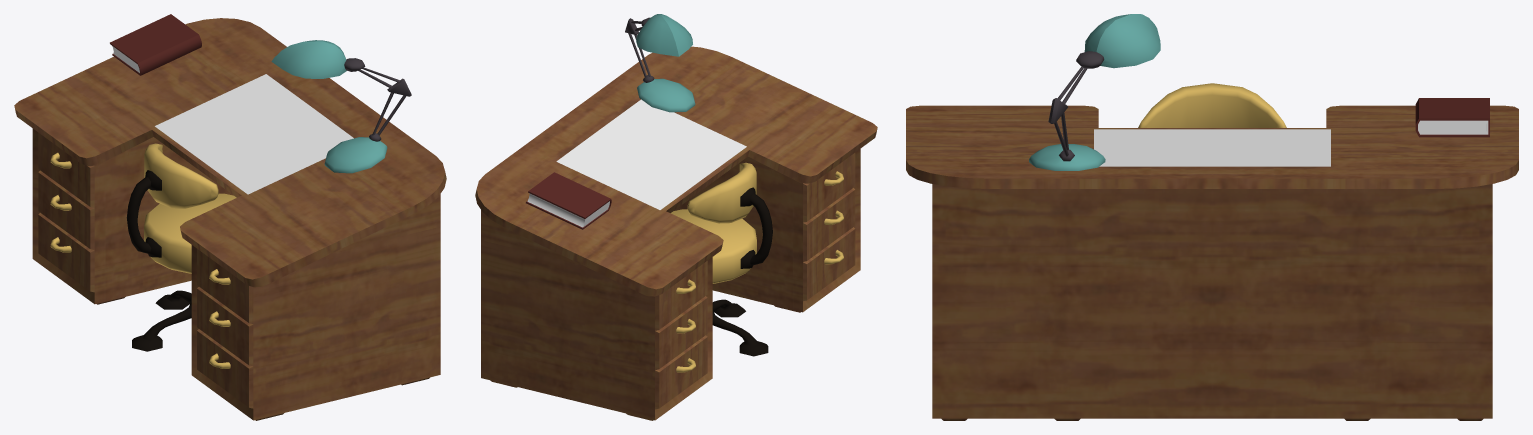
File: CI_112_desk.glb
3 renders of one model, left to right at view 1: azimuth 30°, elevation 25°; view 2: azimuth 150°, elevation 25°; view 3: azimuth 270°, elevation 25°, orthographic. The views are drawn at different scales.
Parts seen in each view (by area): view 1: desk, paper, lamp, chair, books, chair_top, chair_back; view 2: desk, paper, lamp, chair, books, chair_top, chair_back; view 3: desk, paper, lamp, chair_top, books.
Boxes of the visible parts, left/top/right/bottom form: desk: left=14, top=18, right=446, bottom=420; paper: left=155, top=74, right=353, bottom=194; lamp: left=271, top=40, right=411, bottom=173; chair: left=132, top=193, right=236, bottom=351; books: left=110, top=14, right=201, bottom=75; chair_top: left=144, top=143, right=218, bottom=208; chair_back: left=126, top=170, right=161, bottom=257; desk: left=475, top=46, right=877, bottom=420; paper: left=556, top=99, right=746, bottom=209; lamp: left=625, top=14, right=695, bottom=112; chair: left=671, top=209, right=768, bottom=356; books: left=526, top=172, right=611, bottom=229; chair_top: left=687, top=162, right=756, bottom=223; chair_back: left=740, top=187, right=772, bottom=268; desk: left=906, top=105, right=1518, bottom=420; paper: left=1094, top=129, right=1330, bottom=166; lamp: left=1029, top=14, right=1160, bottom=170; chair_top: left=1138, top=83, right=1286, bottom=127; books: left=1415, top=98, right=1489, bottom=137.
Size of the model in its own units: 1.46 by 1.87 by 2.75.
8 materials, 1 textured.
